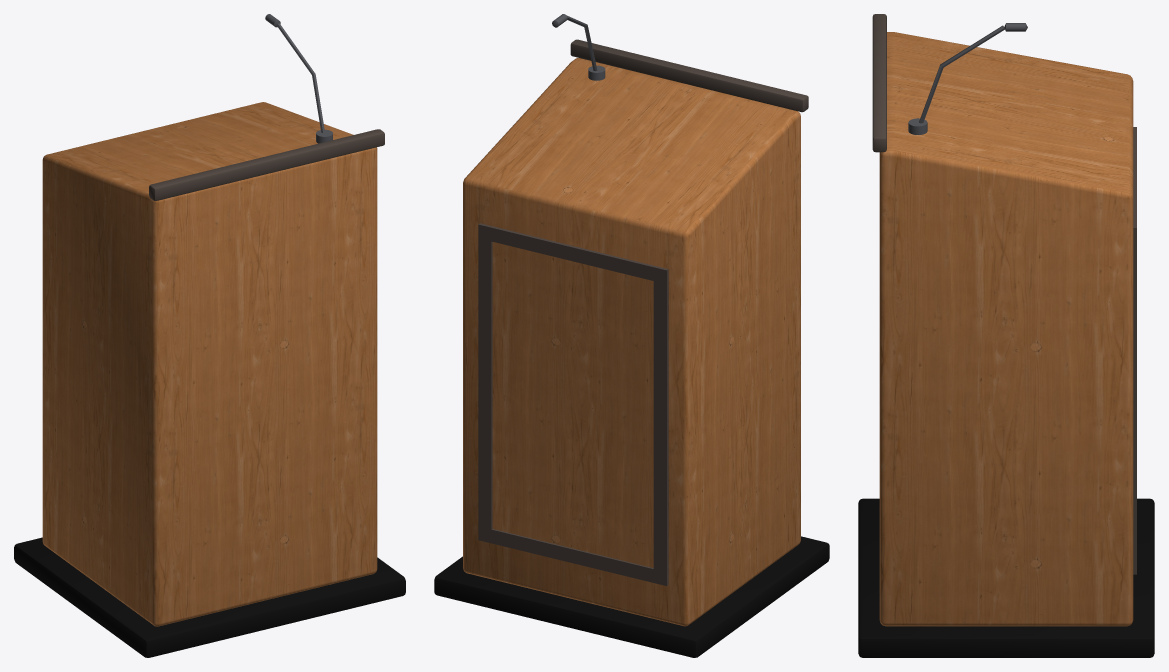
File: lectern.gltf
3 renders of one model, left to right at view 1: azimuth 30°, elevation 25°; view 2: azimuth 150°, elevation 25°; view 3: azimuth 270°, elevation 25°, orthographic. The views are drawn at different scales.
Visible parts, largest first — view 1: lectern; view 2: lectern; view 3: lectern.
Boxes of the visible parts, bbox=[...] form: lectern: bbox=[14, 14, 405, 657]; lectern: bbox=[434, 14, 829, 657]; lectern: bbox=[858, 14, 1154, 657].
Bounding box in the file's own units: 0.7 × 1.39 × 0.62.
4 materials, 3 textured.
